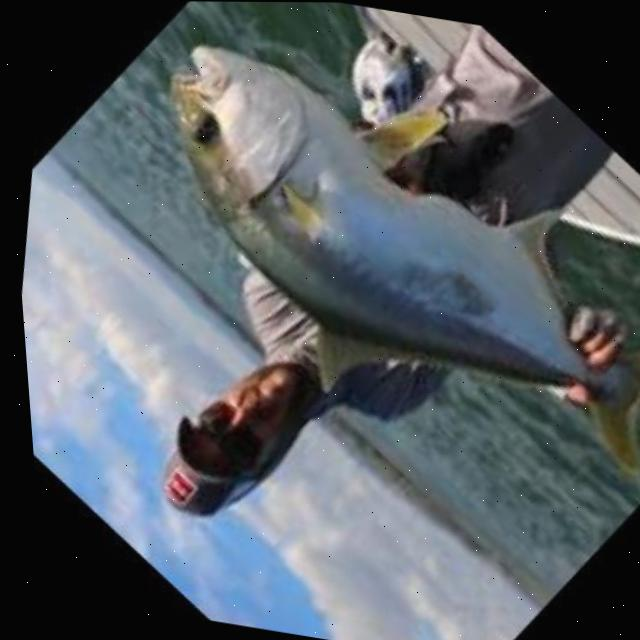Kingfish: (111, 32, 640, 484)
